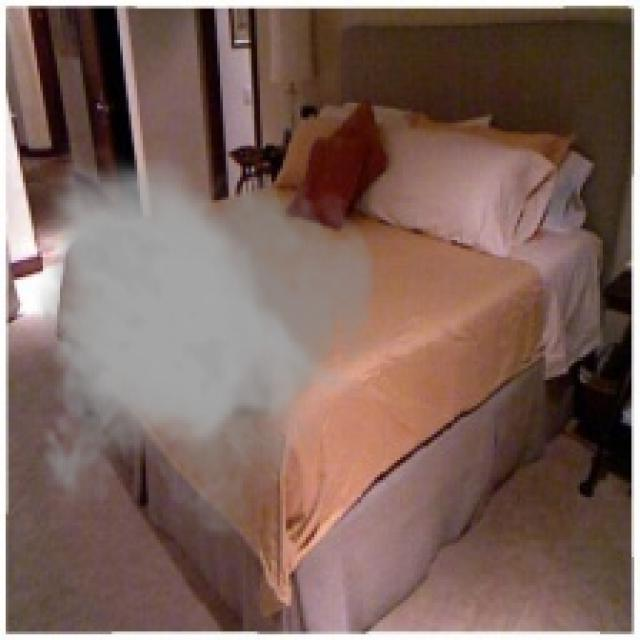smoke: (31, 143, 380, 537)
